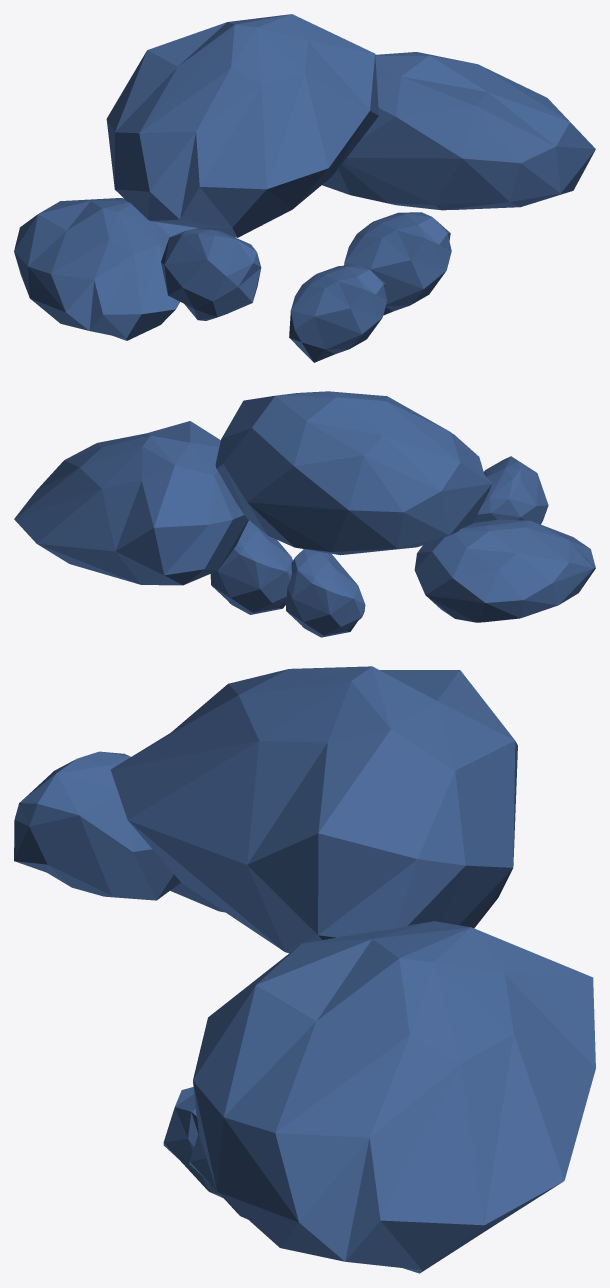
The model's file is tree-winter-leaves-5-049.glb.
3 views of the same model, one above another, from view 1: azimuth 30°, elevation 25°; view 2: azimuth 150°, elevation 25°; view 3: azimuth 270°, elevation 25° (orthographic). The views are drawn at different scales.
Parts seen in each view (by area): view 1: TREE 5.005_202; view 2: TREE 5.005_202; view 3: TREE 5.005_202.
Boxes of the visible parts, left/top/right/bottom form: TREE 5.005_202: left=14, top=14, right=595, bottom=362; TREE 5.005_202: left=14, top=391, right=595, bottom=637; TREE 5.005_202: left=14, top=666, right=595, bottom=1273.
Size of the model in its own units: 1.99 by 1.05 by 1.12.
